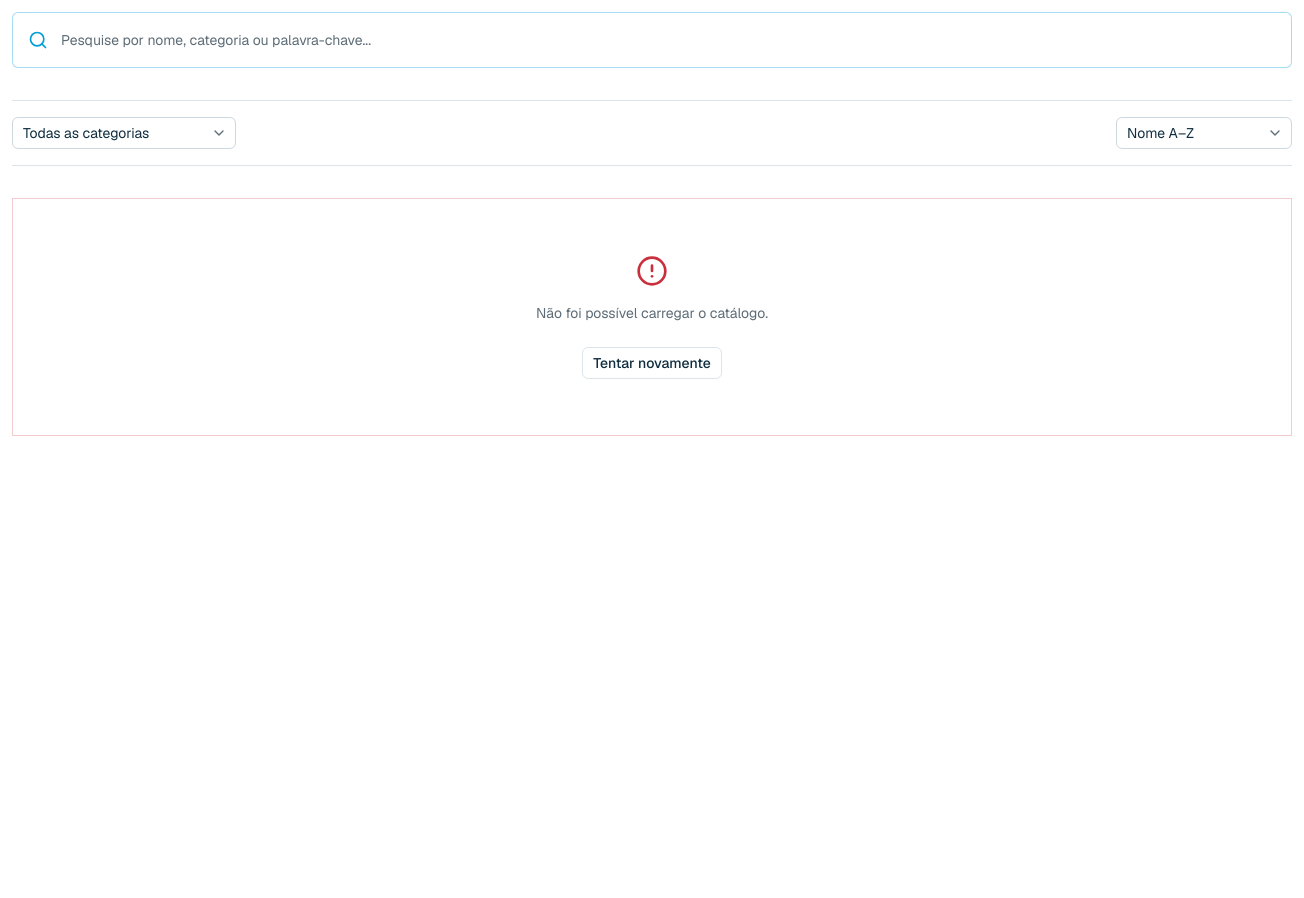
it: CatalogBrowser › retries a failed catalog request
The image size is (1304, 898).
Expected: the text "Não foi possível carregar o catálogo." is shown, [536,304,768,322]
Click the button "Tentar novamente".
click(652, 363)  # box [582,347,722,379]
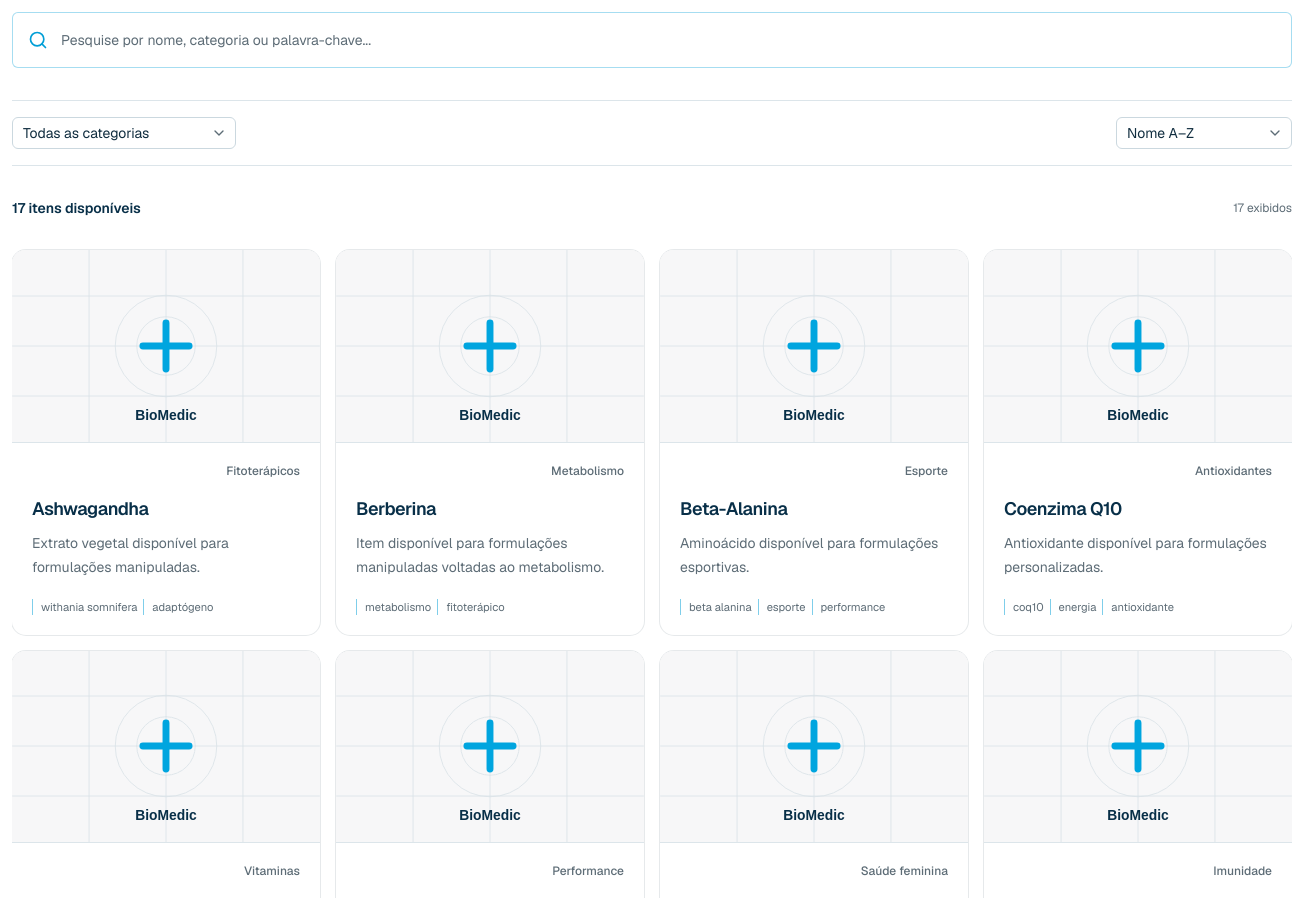
Now the text "17 itens disponíveis" is shown, box [12,198,141,218]
